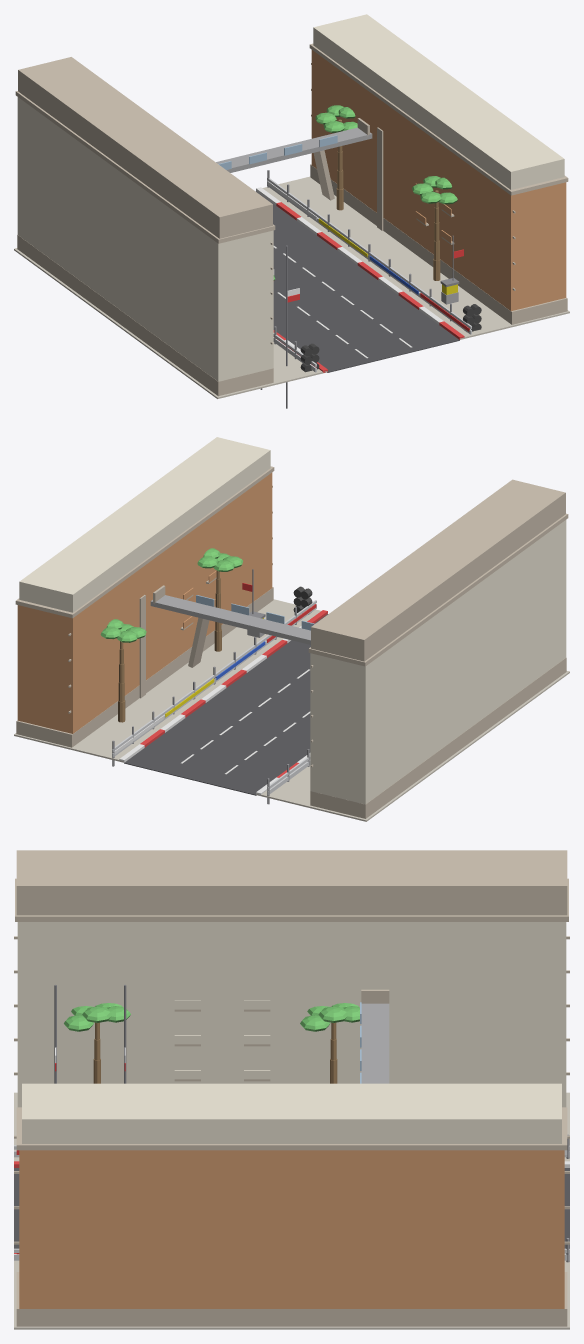
Rendered from env1-1.glb.
3 renders of one model, top to bottom at view 1: azimuth 30°, elevation 25°; view 2: azimuth 150°, elevation 25°; view 3: azimuth 270°, elevation 25°, orthographic. The views are drawn at different scales.
Visible parts, largest first — view 1: env1-1.001; view 2: env1-1.001; view 3: env1-1.001.
Boxes of the visible parts, x1,y1,x2,y2 form: env1-1.001: (14, 14, 569, 408); env1-1.001: (14, 437, 569, 821); env1-1.001: (14, 850, 569, 1329).
Bounding box in the file's own units: 20 × 12 × 20.
